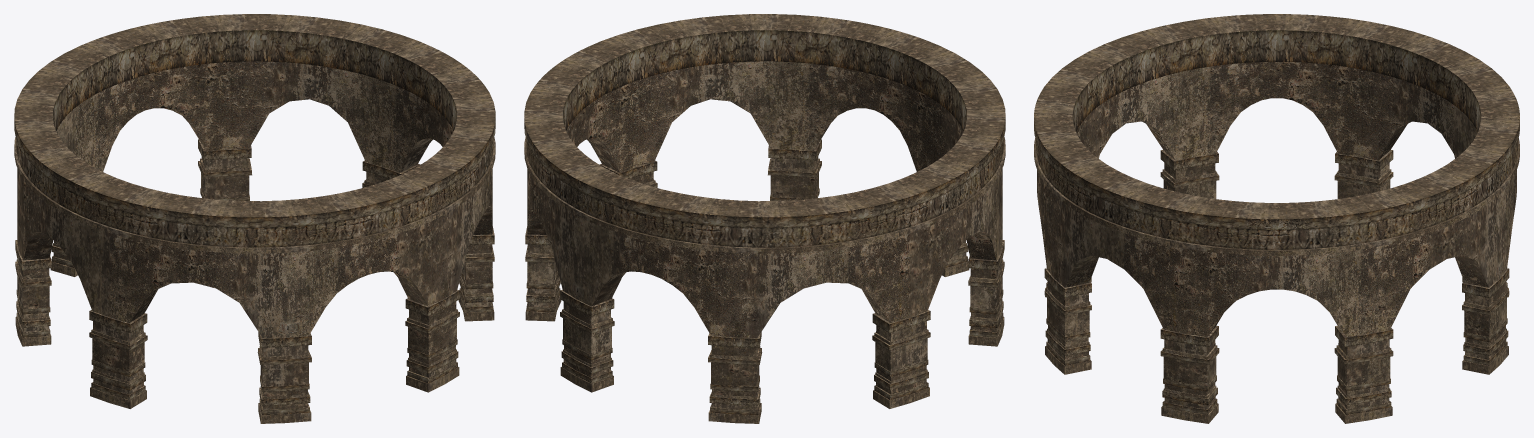
The model's file is materials_5_wall_cylinder_10.fbx.
3 views of the same model, side by side, from view 1: azimuth 30°, elevation 25°; view 2: azimuth 150°, elevation 25°; view 3: azimuth 270°, elevation 25° (orthographic).
Visible parts, largest first — view 1: materials_5_wall_cylinder_10; view 2: materials_5_wall_cylinder_10; view 3: materials_5_wall_cylinder_10.
Part boxes in pixels (box(x1,y1,x2,y2)): materials_5_wall_cylinder_10: box(14, 14, 495, 423); materials_5_wall_cylinder_10: box(524, 14, 1005, 423); materials_5_wall_cylinder_10: box(1034, 14, 1519, 423).
Bounding box in the file's own units: 884 × 420 × 884.
